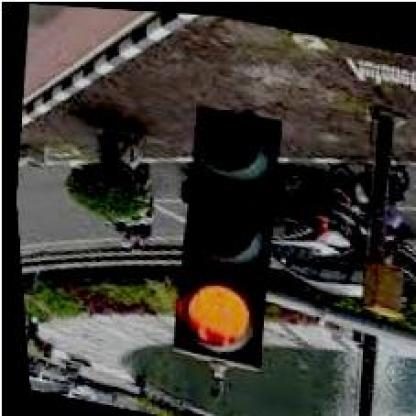red: (150, 95, 297, 370)
